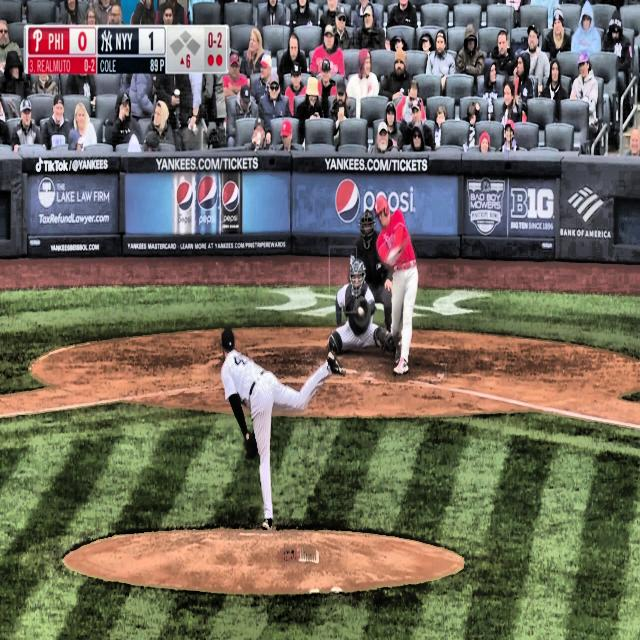baseball: (358, 306, 364, 317)
